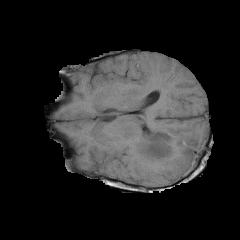glioma: (132, 111, 208, 180)
